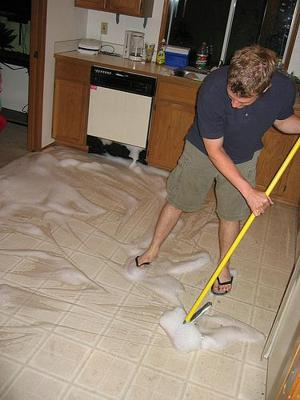person: (125, 44, 300, 296)
